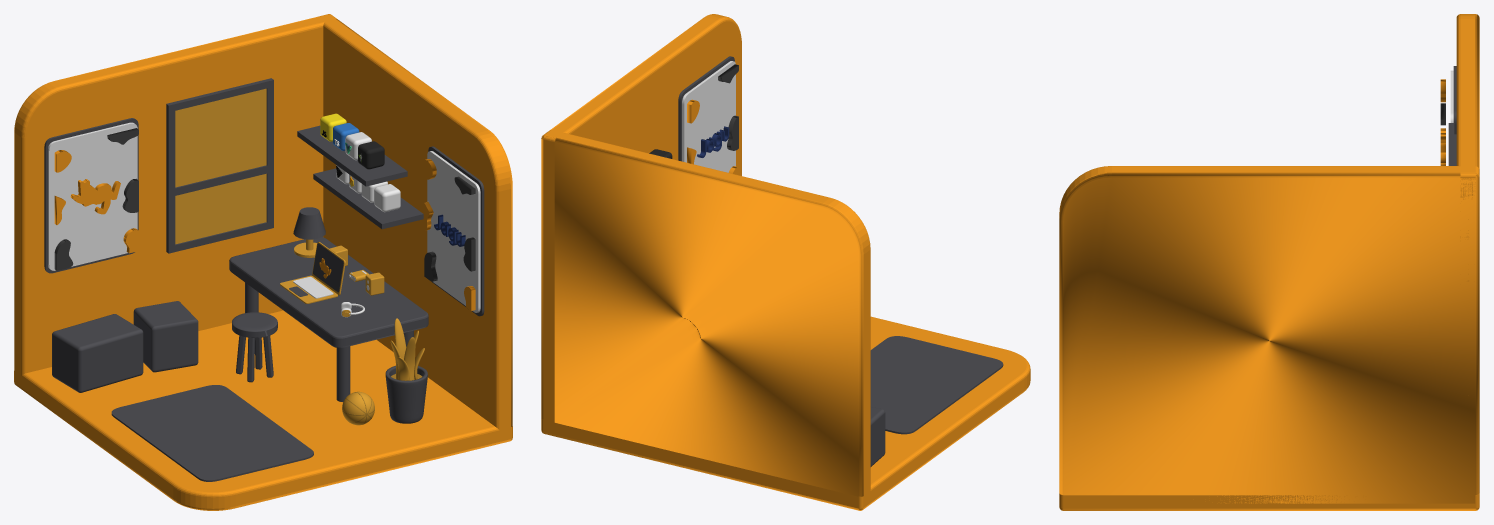
The model's file is work_room.glb.
The picture shows the model from 3 angles, left to right: view 1: azimuth 30°, elevation 25°; view 2: azimuth 150°, elevation 25°; view 3: azimuth 270°, elevation 25°; orthographic projection. The views are drawn at different scales.
Visible parts, largest first — view 1: left-wall, floor, right-wall, glass, Rectangle.001, desk, Rectangle 3.004, box, Rectangle 3.005, split, box 2, shelf.001 (+12 smaller); view 2: left-wall, right-wall, floor, Rectangle.001, Rectangle 3.005, box, Rectangle 2.005; view 3: right-wall, floor, left-wall.
Part boxes in pixels (x1,y1,x2,y2): left-wall: (14,14,336,380); floor: (14,310,512,510); right-wall: (318,14,512,430); glass: (175,88,266,244); Rectangle.001: (111,385,313,481); desk: (229,237,428,347); Rectangle 3.004: (48,122,137,270); box: (52,314,143,392); Rectangle 3.005: (427,151,480,312); split: (166,78,273,253); box 2: (133,301,198,372); shelf.001: (297,125,407,186); left-wall: (541,130,870,499); right-wall: (541,14,741,429); floor: (541,316,1030,510); Rectangle.001: (870,336,1003,434); Rectangle 3.005: (682,61,735,172); box: (870,407,885,466); Rectangle 2.005: (678,56,734,161); right-wall: (1059,166,1479,503); floor: (1059,493,1479,510); left-wall: (1456,14,1479,319).
Bounding box in the file's own units: 3.29 × 2.92 × 3.29.
